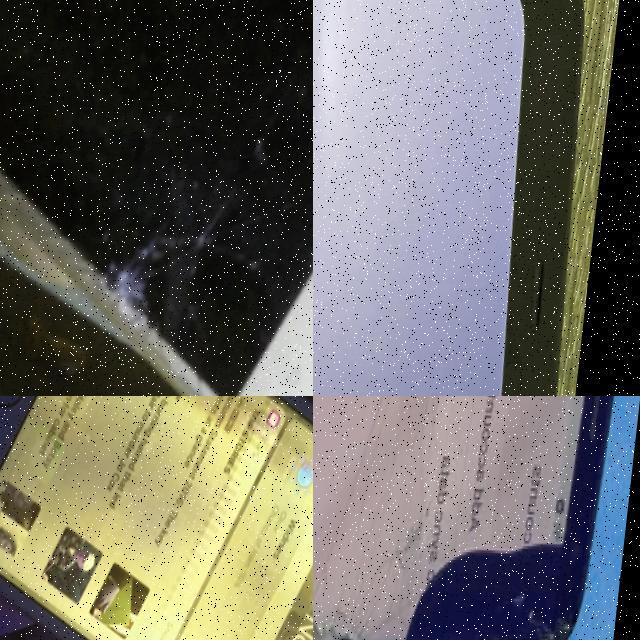dead pixel: (413, 508, 602, 640)
screen crack: (97, 158, 313, 396), (313, 396, 470, 640)
